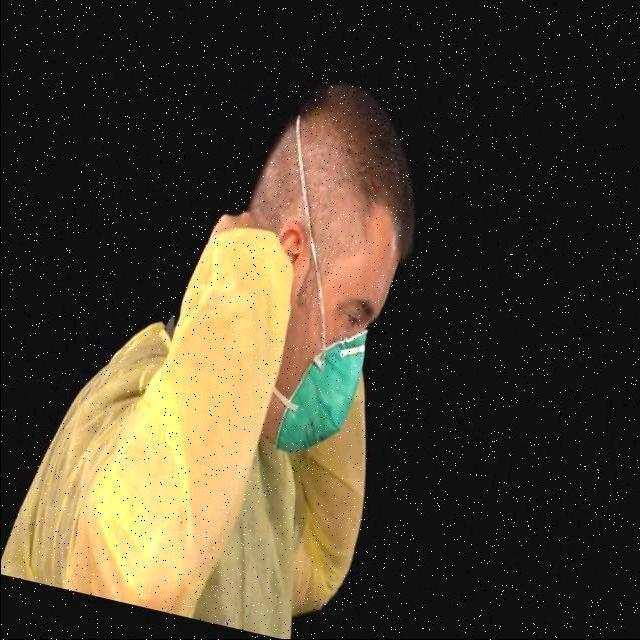mask: (259, 340, 381, 464)
no_gloves: (291, 80, 421, 216)
